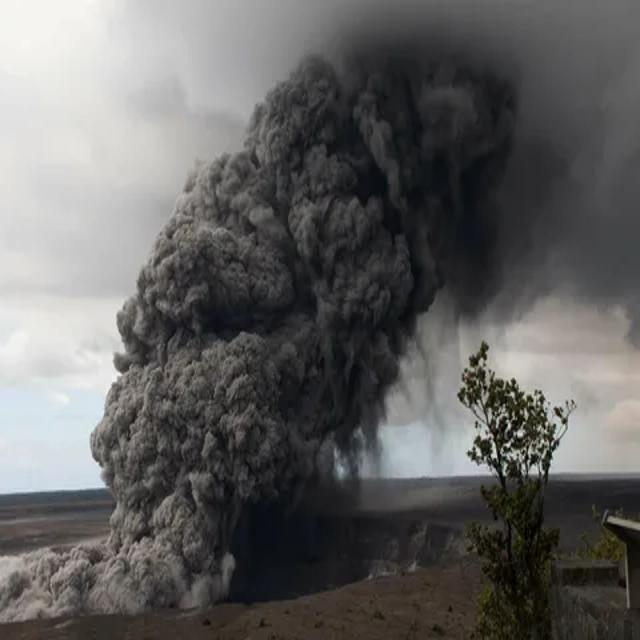Smoke: (92, 25, 513, 601)
